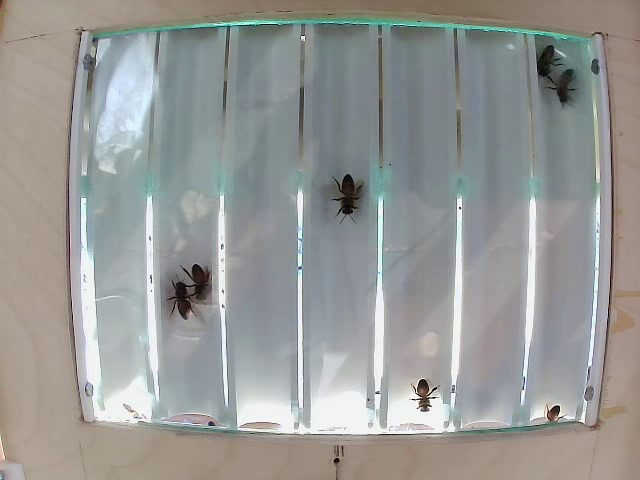bee: (188, 253, 226, 303), (333, 176, 367, 225), (413, 373, 446, 419), (541, 64, 573, 111), (526, 43, 558, 82), (168, 275, 192, 318)
